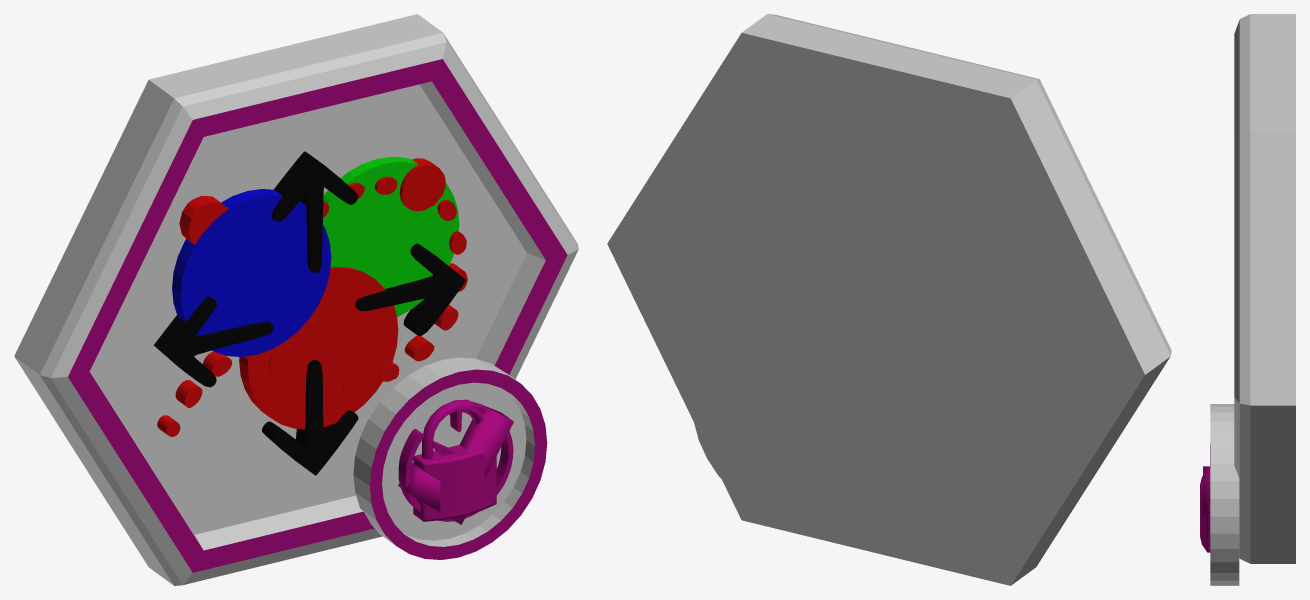
The model's file is planar_timed.dae.
The picture shows the model from 3 angles, left to right: view 1: azimuth 30°, elevation 25°; view 2: azimuth 150°, elevation 25°; view 3: azimuth 270°, elevation 25°; orthographic projection. The views are drawn at different scales.
Parts seen in each view (by area): view 1: node, kColor, Hamiltonian, Lock, Checkmark; view 2: node; view 3: node, Lock, Checkmark.
Boxes of the visible parts, box(x1,y1,x2,y2) form: node: box(14, 14, 578, 585); kColor: box(172, 156, 459, 429); Hamiltonian: box(157, 158, 467, 436); Lock: box(413, 399, 496, 521); Checkmark: box(398, 404, 513, 524); node: box(607, 14, 1171, 585); node: box(1210, 14, 1295, 585); Lock: box(1200, 443, 1210, 552); Checkmark: box(1203, 466, 1210, 518).
Bounding box in the file's own units: 2 × 0.3477 × 1.8.
